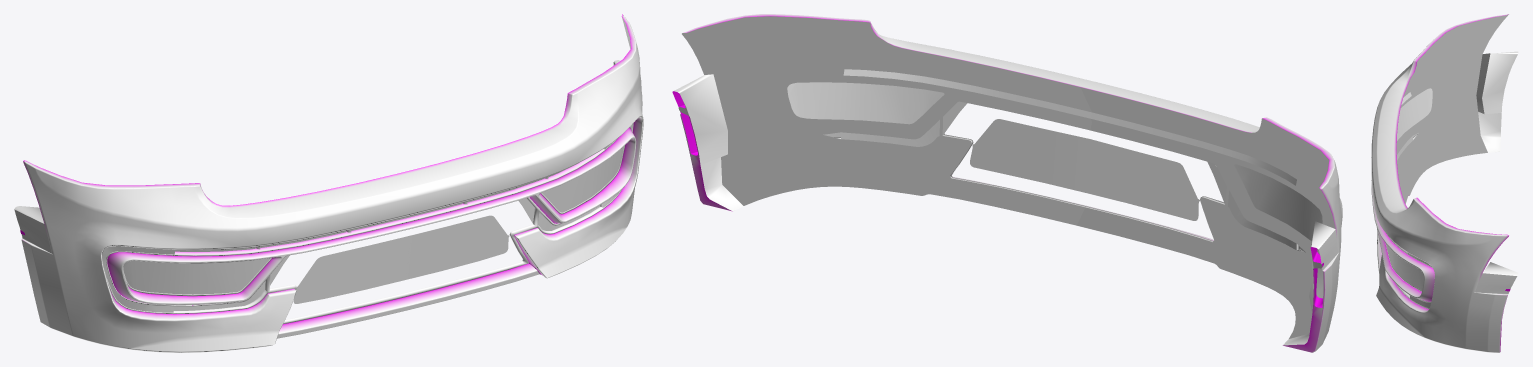
The model's file is Car_Mini_CountrymanJCW_2017_BumperF_SetE_AltA.fbx.
3 views of the same model, side by side, from view 1: azimuth 30°, elevation 25°; view 2: azimuth 150°, elevation 25°; view 3: azimuth 270°, elevation 25° (orthographic). The views are drawn at different scales.
Visible parts, largest first — view 1: BumperF 6; view 2: BumperF 6; view 3: BumperF 6.
Part boxes in pixels (box(x1,y1,x2,y2)): BumperF 6: box(14, 14, 643, 352); BumperF 6: box(672, 14, 1342, 352); BumperF 6: box(1371, 14, 1518, 352).
Bounding box in the file's own units: 1.76 × 0.4503 × 0.4884.
